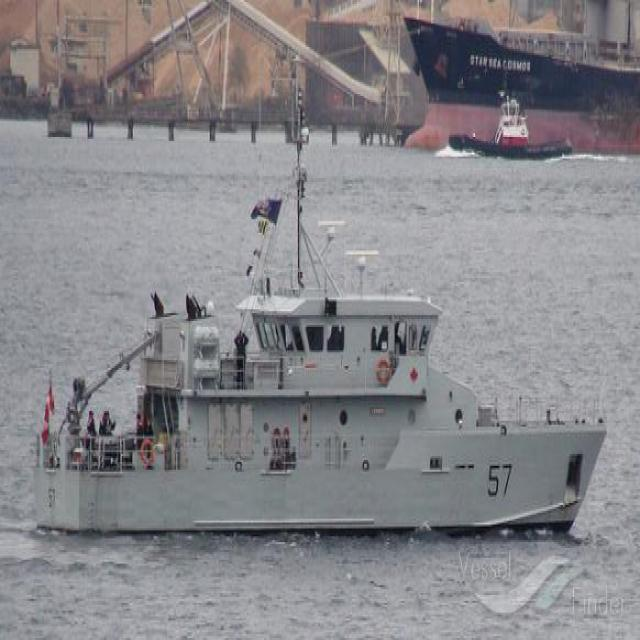Naval Ship: (36, 234, 599, 534)
